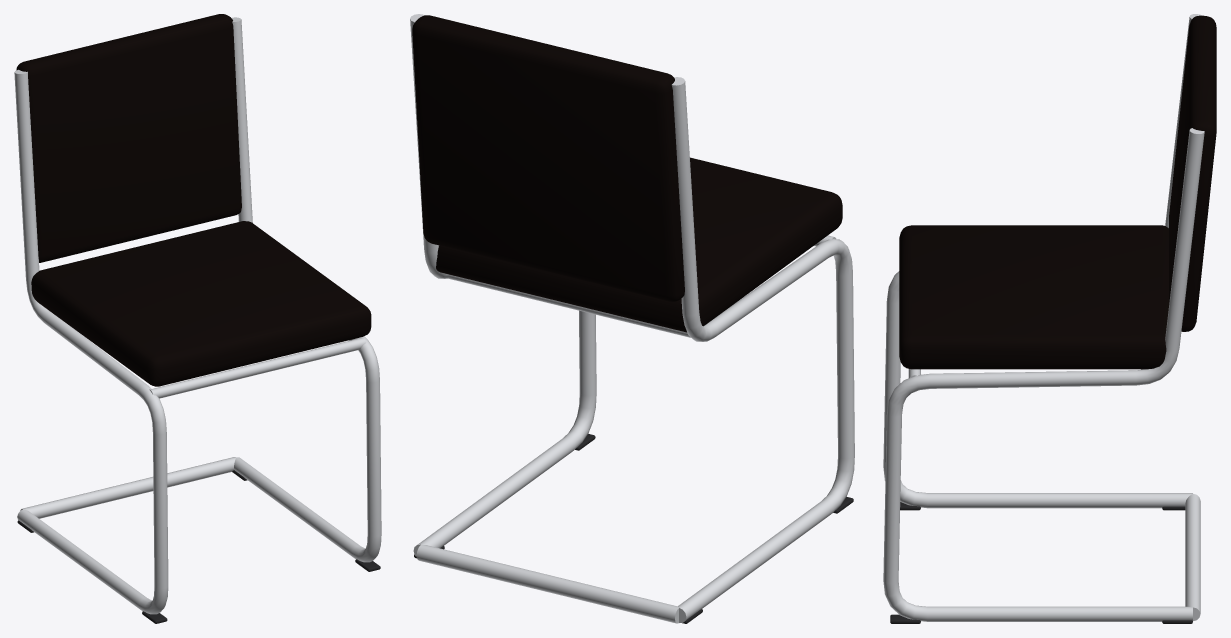
The model's file is chair.gltf.
The picture shows the model from 3 angles, left to right: view 1: azimuth 30°, elevation 25°; view 2: azimuth 150°, elevation 25°; view 3: azimuth 270°, elevation 25°; orthographic projection. The views are drawn at different scales.
Visible parts, largest first — view 1: Upholstered back - Faux leather, black, Upholstered seat - Faux leather, black, Cantilever frame - Chrome-plated steel; view 2: Upholstered back - Faux leather, black, Cantilever frame - Chrome-plated steel, Upholstered seat - Faux leather, black; view 3: Upholstered seat - Faux leather, black, Cantilever frame - Chrome-plated steel, Upholstered back - Faux leather, black, Runner glides - Glides, black nylon / felt.
Boxes of the visible parts, box(x1,y1,x2,y2) form: Upholstered back - Faux leather, black: box(16, 14, 241, 262); Upholstered seat - Faux leather, black: box(31, 221, 371, 386); Cantilever frame - Chrome-plated steel: box(14, 17, 381, 614); Upholstered back - Faux leather, black: box(412, 15, 684, 301); Cantilever frame - Chrome-plated steel: box(410, 14, 854, 623); Upholstered seat - Faux leather, black: box(436, 157, 842, 332); Upholstered seat - Faux leather, black: box(899, 225, 1168, 369); Cantilever frame - Chrome-plated steel: box(883, 14, 1204, 621); Upholstered back - Faux leather, black: box(1169, 15, 1216, 331); Runner glides - Glides, black nylon / felt: box(890, 502, 1192, 623).
Size of the model in its own units: 0.466 by 0.8946 by 0.5452.
Materials: 3 (3 with a texture image).
